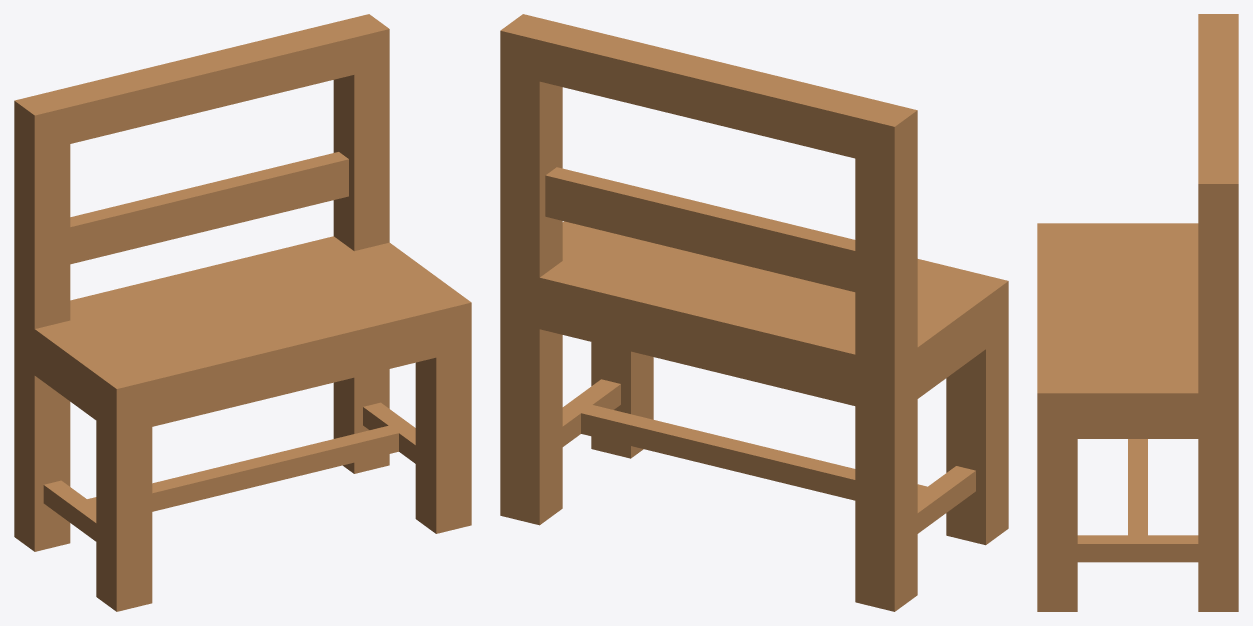
The model's file is kitBench.glb.
3 views of the same model, side by side, from view 1: azimuth 30°, elevation 25°; view 2: azimuth 150°, elevation 25°; view 3: azimuth 270°, elevation 25° (orthographic). The views are drawn at different scales.
Visible parts, largest first — view 1: kitBench_wood; view 2: kitBench_wood; view 3: kitBench_wood.
Part boxes in pixels (box(x1,y1,x2,y2)): kitBench_wood: box(14, 14, 471, 611); kitBench_wood: box(500, 14, 1008, 611); kitBench_wood: box(1037, 14, 1238, 611).
Bounding box in the file's own units: 0.8 × 0.94 × 0.4.
